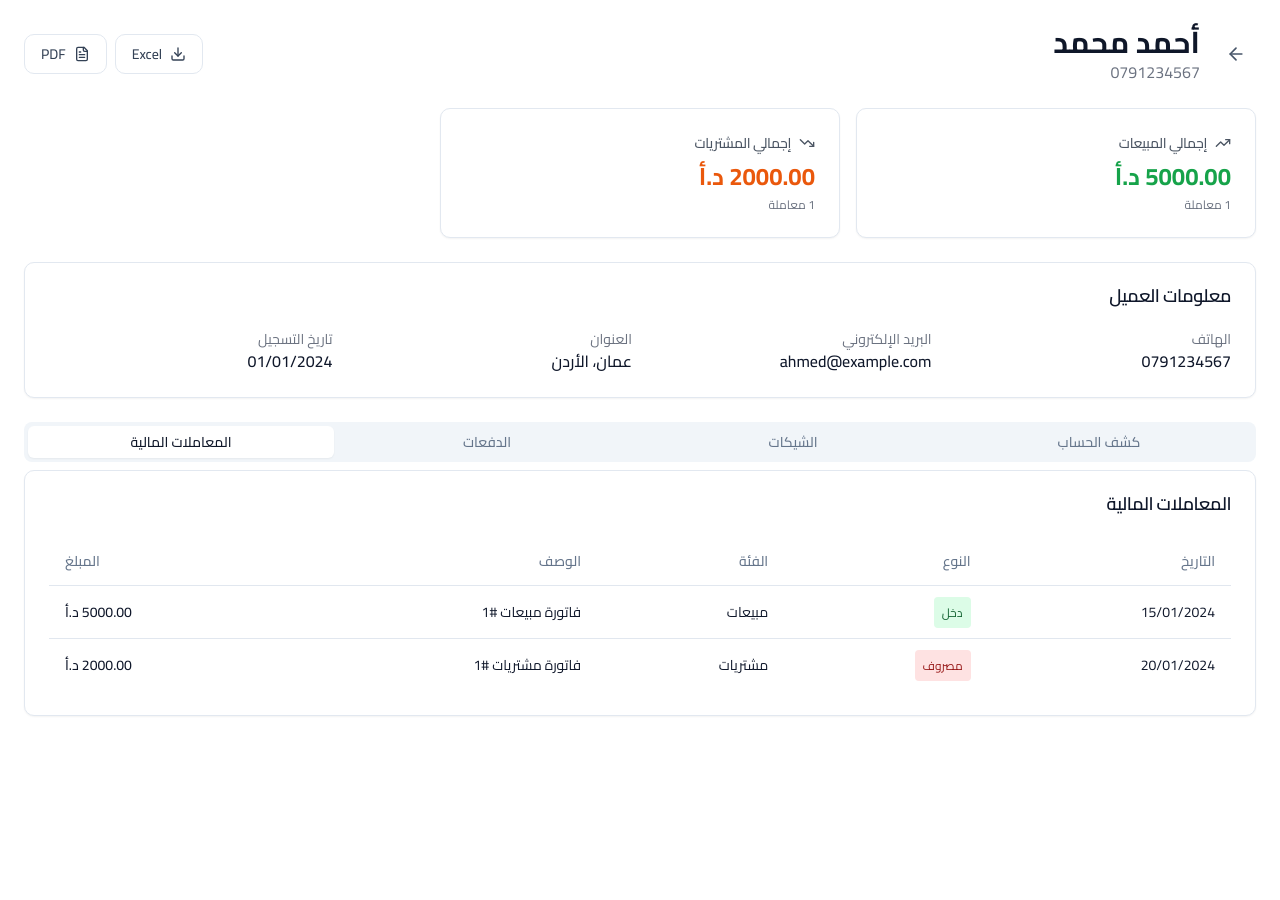
Test: ClientDetailPage › Payments Tab › should show empty state when no payments
Click the tab "الدفعات".
click(487, 442)  # box [334, 426, 640, 458]
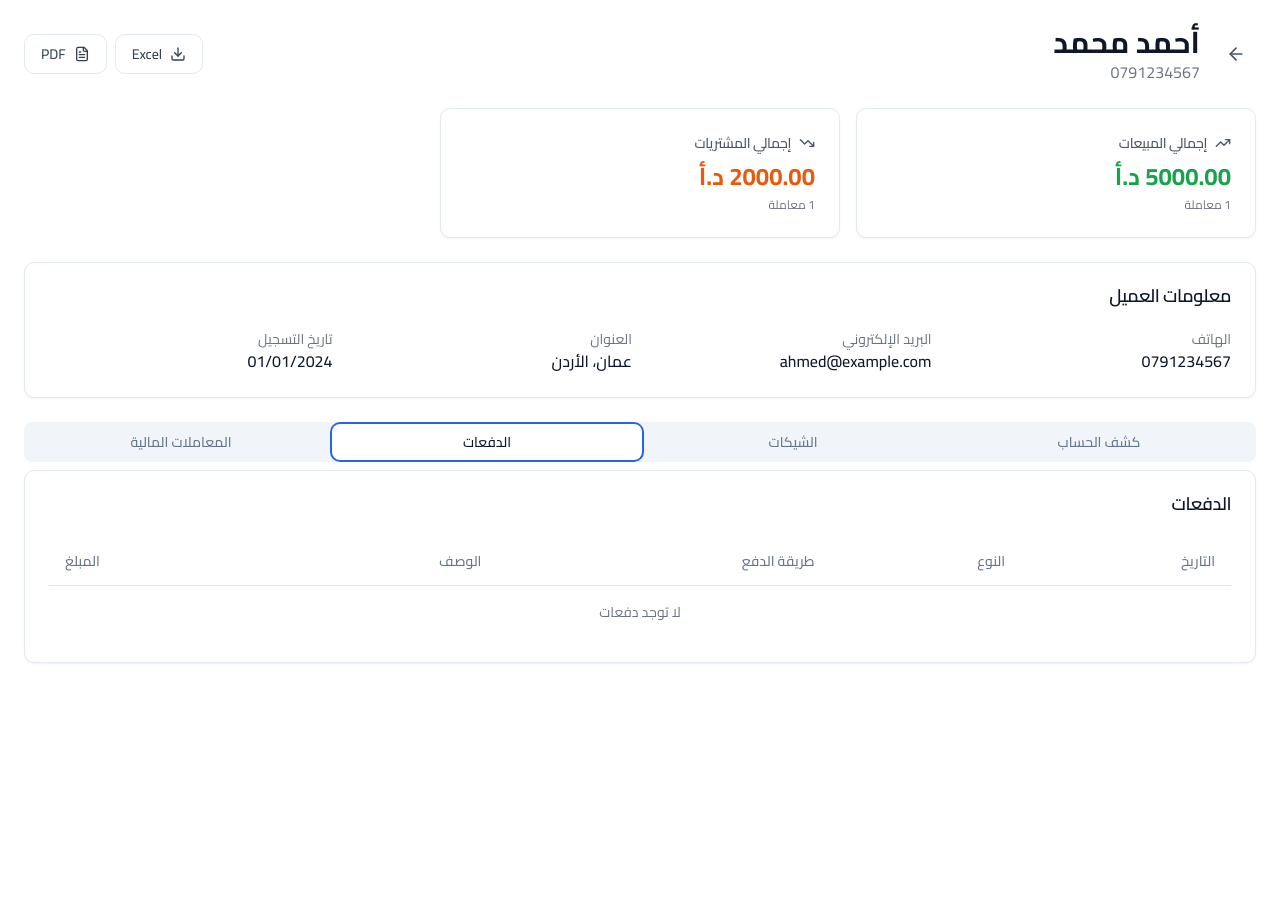
expect the text "لا توجد دفعات" is shown: met, box [49, 585, 1231, 638]
